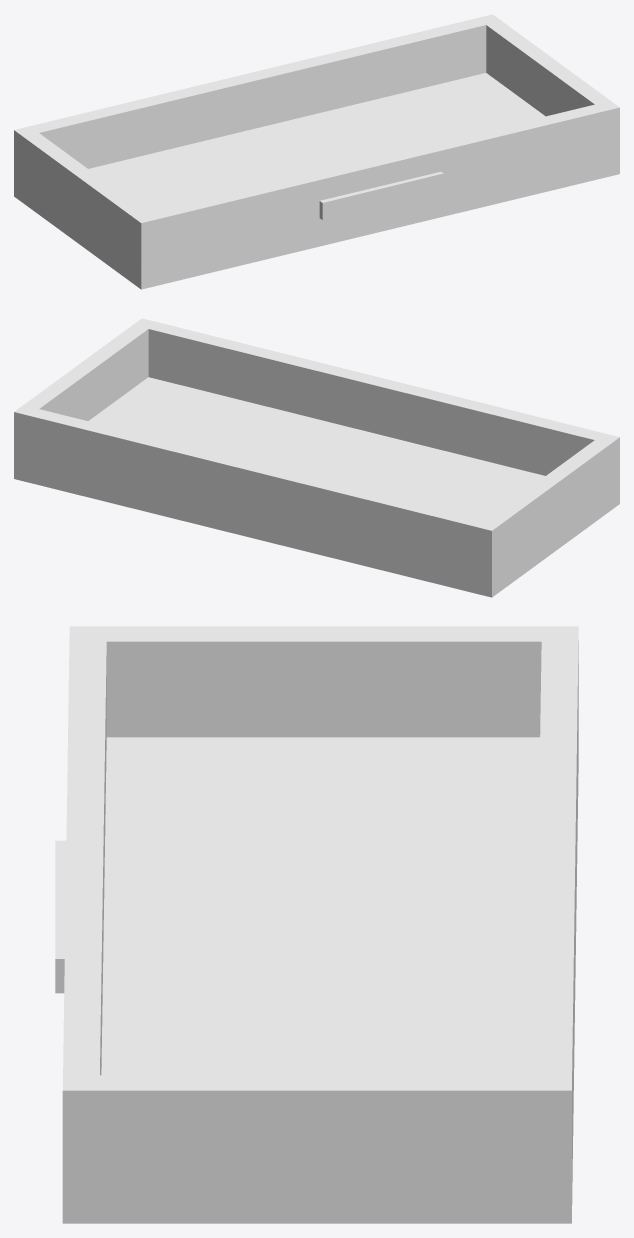
Rendered from Itr_Obj_Fridge2_Drawer2_01.FBX.
3 views of the same model, one above another, from view 1: azimuth 30°, elevation 25°; view 2: azimuth 150°, elevation 25°; view 3: azimuth 270°, elevation 25° (orthographic). The views are drawn at different scales.
Visible parts, largest first — view 1: Itr_Obj_Fridge2_Drawer2_01; view 2: Itr_Obj_Fridge2_Drawer2_01; view 3: Itr_Obj_Fridge2_Drawer2_01.
Part boxes in pixels (<box>): Itr_Obj_Fridge2_Drawer2_01: <box>14,14,619,289</box>; Itr_Obj_Fridge2_Drawer2_01: <box>14,318,619,597</box>; Itr_Obj_Fridge2_Drawer2_01: <box>55,626,578,1223</box>.
Bounding box in the file's own units: 30.61 × 4.11 × 14.54.
